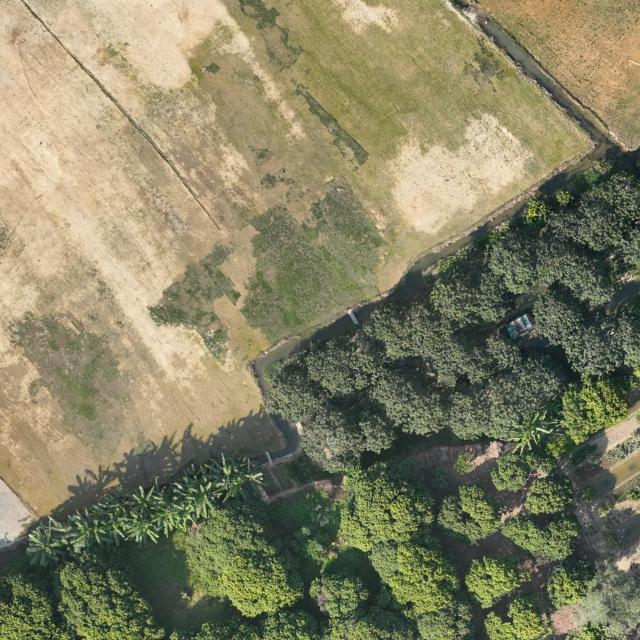tree: (196, 499, 304, 620), (449, 350, 567, 445), (367, 539, 475, 640), (333, 456, 436, 552), (57, 557, 167, 640), (543, 170, 640, 252), (298, 406, 396, 474), (364, 303, 465, 363), (369, 366, 448, 438), (541, 235, 616, 309), (479, 229, 561, 293), (559, 371, 629, 443), (307, 335, 380, 395), (435, 481, 503, 545), (500, 514, 580, 564), (463, 554, 532, 610), (482, 588, 554, 640), (256, 373, 330, 423), (532, 288, 587, 345), (307, 570, 369, 620), (562, 328, 626, 375), (522, 472, 574, 518), (489, 450, 542, 492), (545, 566, 587, 612)
